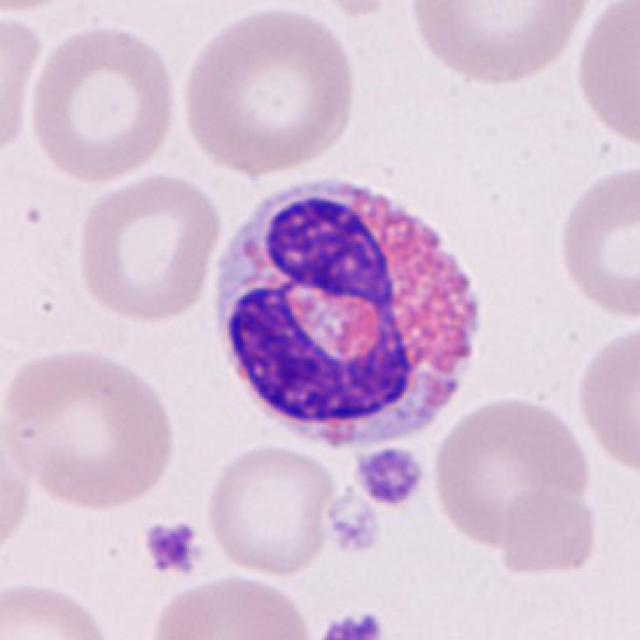Eosinophil: (204, 163, 496, 463)
Platelets: (352, 442, 428, 510), (322, 489, 384, 559), (140, 517, 204, 581), (313, 609, 386, 640)
RBC: (177, 3, 362, 178), (0, 344, 180, 514), (428, 392, 594, 552), (23, 19, 180, 186), (74, 168, 225, 326), (201, 440, 339, 580), (406, 0, 598, 87), (554, 161, 638, 321), (143, 569, 320, 640), (572, 319, 638, 479), (493, 484, 602, 579), (571, 0, 638, 154), (0, 576, 119, 640), (0, 8, 45, 164), (0, 424, 35, 566), (290, 0, 426, 17), (2, 0, 91, 16)
